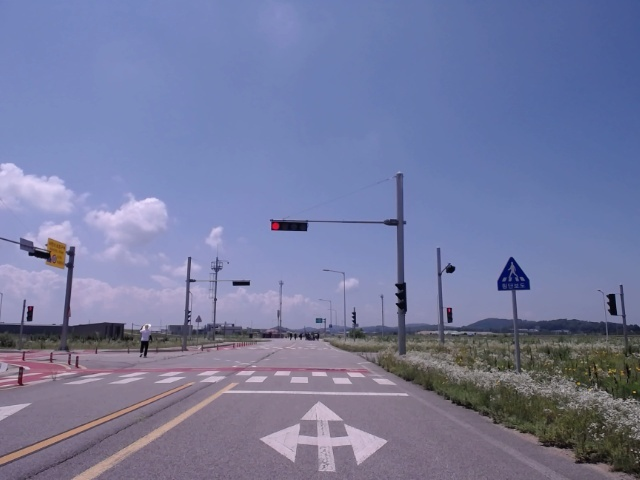red_4: (271, 222, 308, 232)
